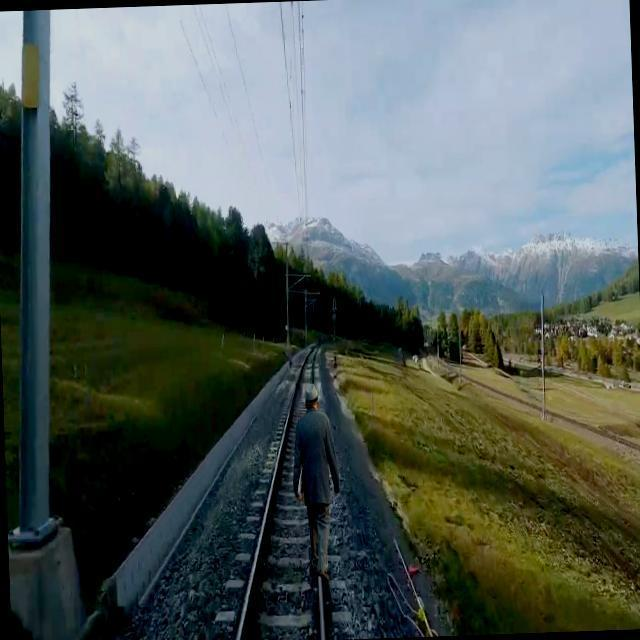rail: (183, 341, 373, 640)
